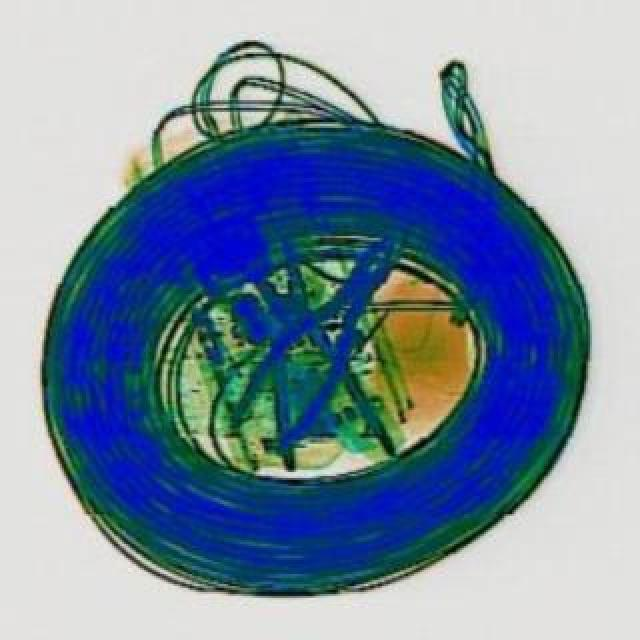wrench: (198, 212, 398, 484), (214, 210, 426, 458)
